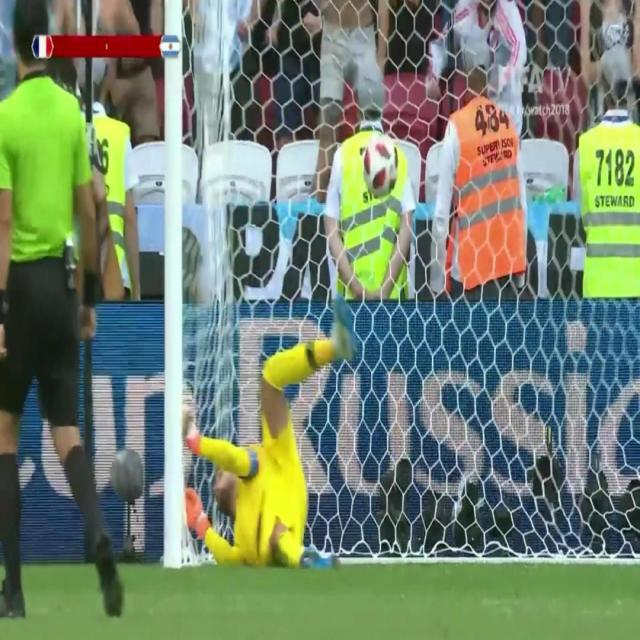ball: (358, 128, 401, 201)
goalkeeper: (180, 315, 353, 579)
referee: (0, 0, 120, 633)
